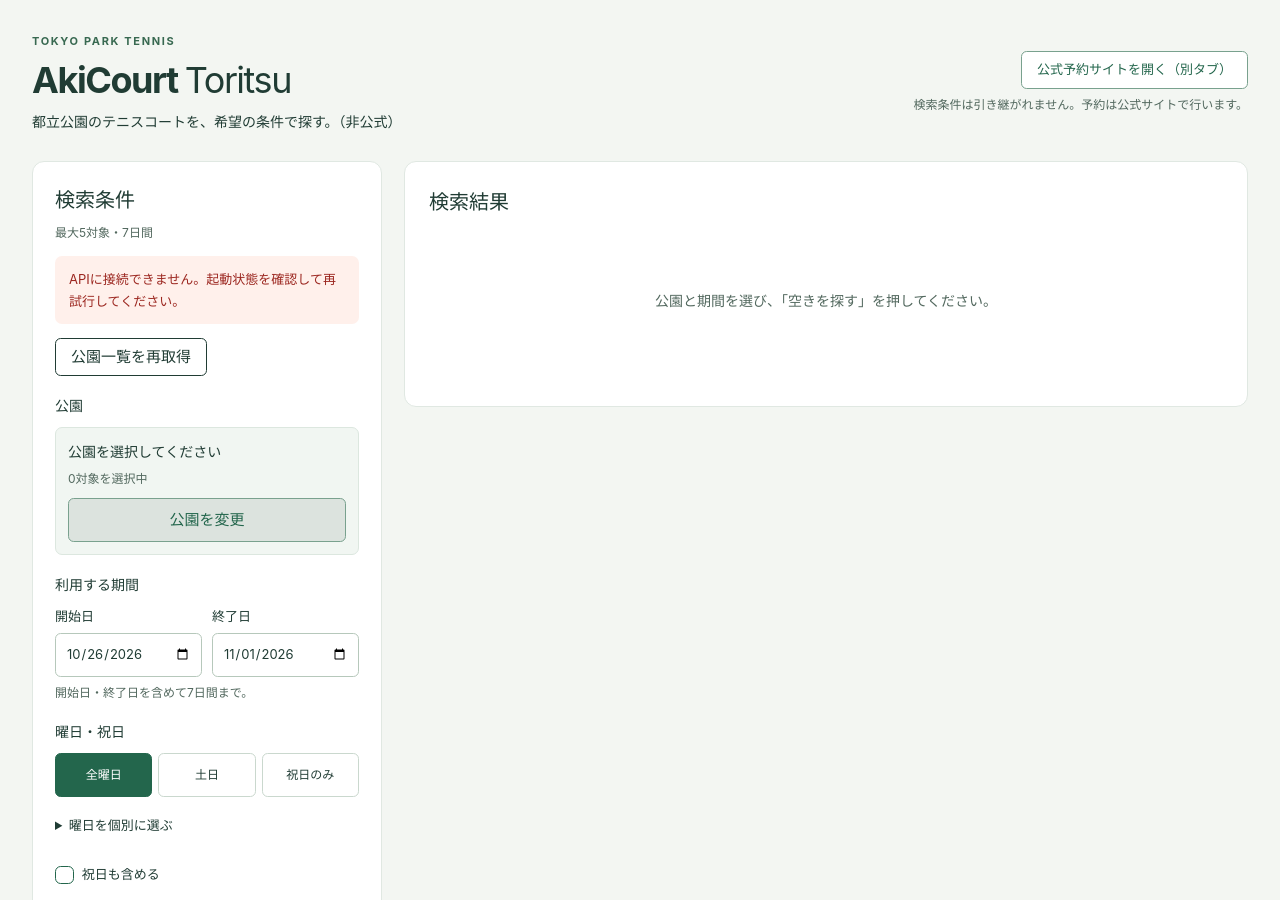
API supplied park choices › keeps saved conditions on fetch failure and allows retry with changed names
Click the button "公園一覧を再取得" at (131, 357), box [55,338,207,376]
(page scrolled)
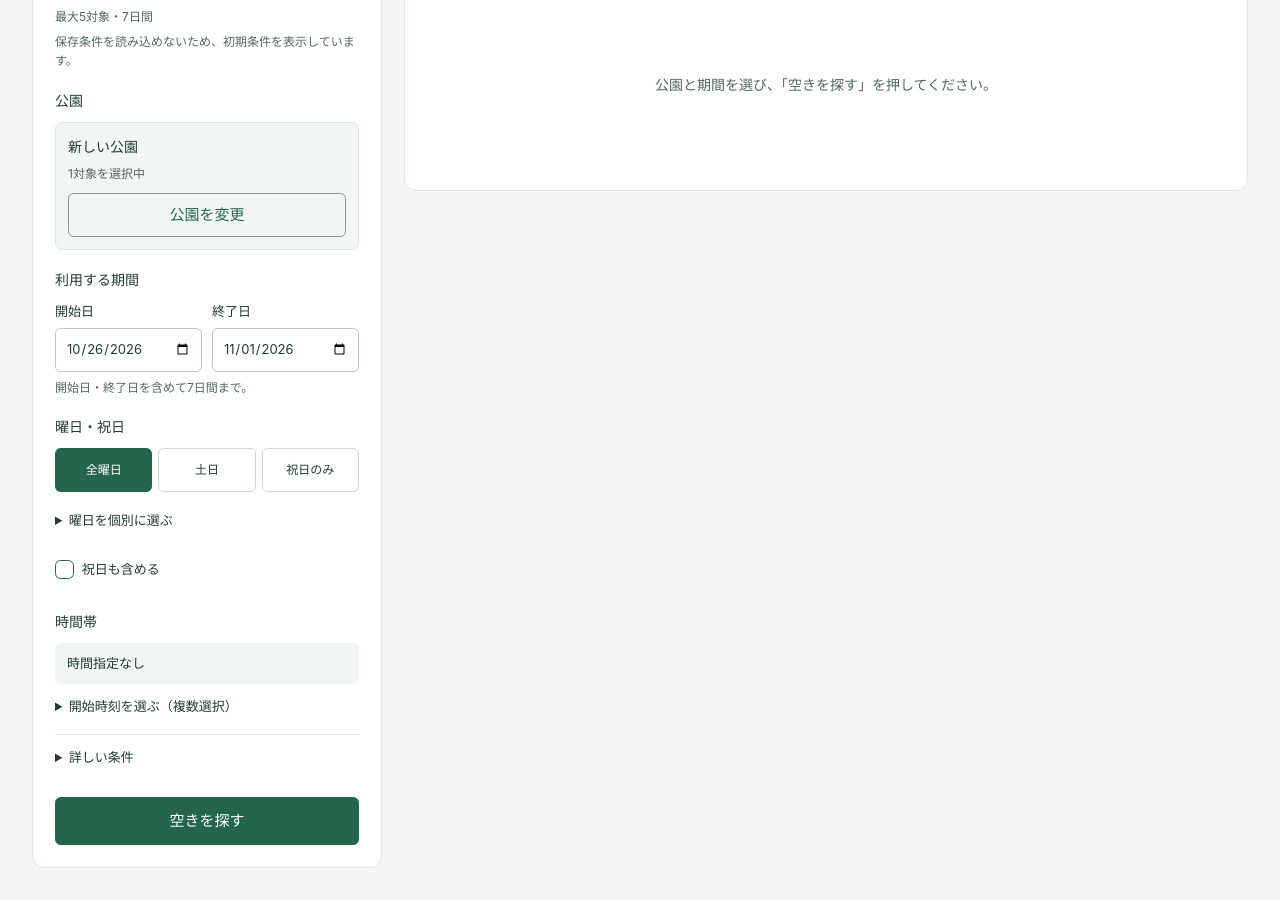
Check: the text "新しい公園" is shown, box [68,138,138,155]
Check: the button with class "search-button" is enabled, box [55,797,359,845]
